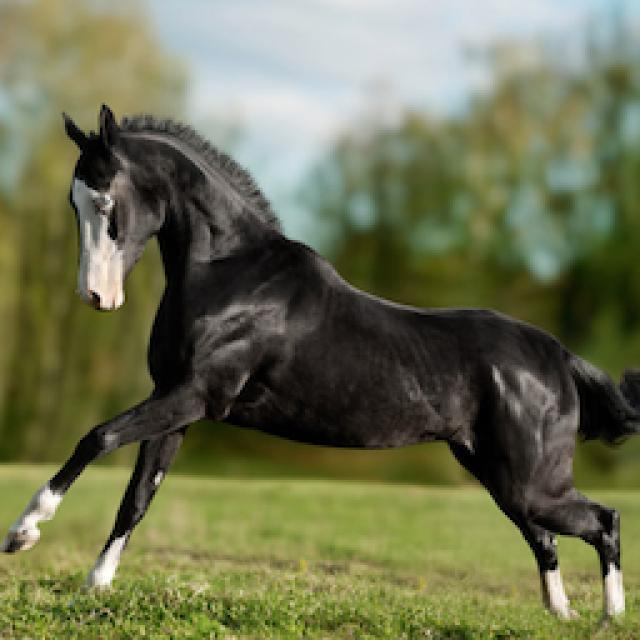Horse: (0, 98, 638, 630)
